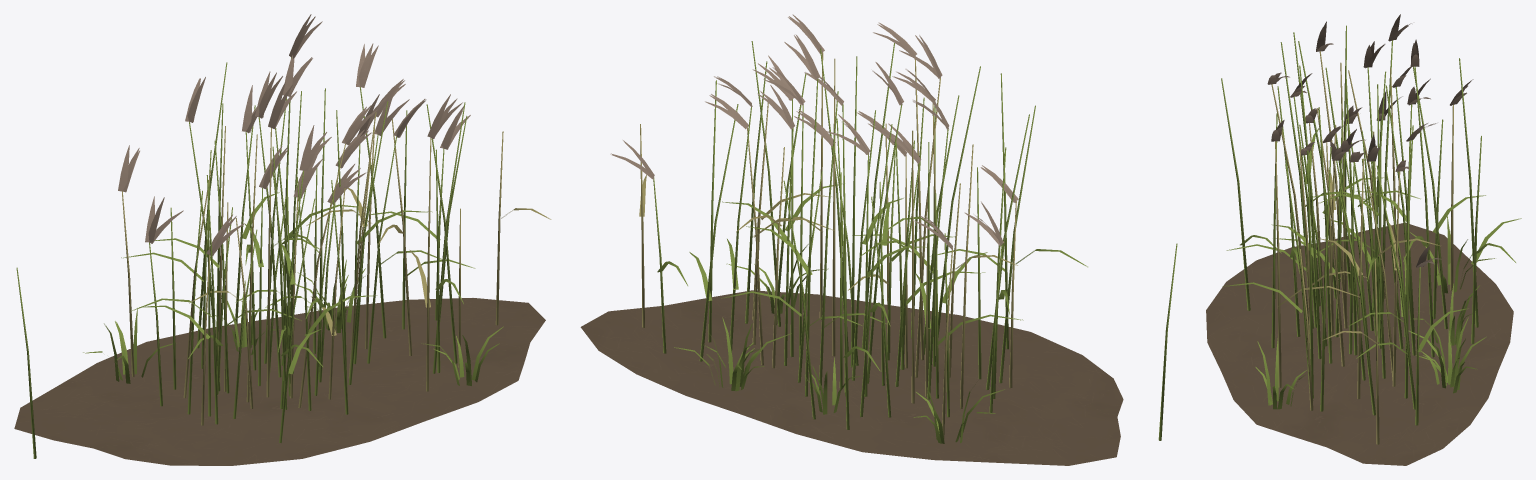
The model's file is reed_bed.glb.
3 renders of one model, left to right at view 1: azimuth 30°, elevation 25°; view 2: azimuth 150°, elevation 25°; view 3: azimuth 270°, elevation 25°, orthographic. The views are drawn at different scales.
Parts seen in each view (by area): view 1: reed_bed; view 2: reed_bed; view 3: reed_bed.
Part boxes in pixels (x1,y1,x2,y2): reed_bed: (14,14,551,465); reed_bed: (580,14,1177,465); reed_bed: (1206,14,1521,465).
Bounding box in the file's own units: 4.19 × 2.52 × 2.18.
Materials: 4 (4 with a texture image).
